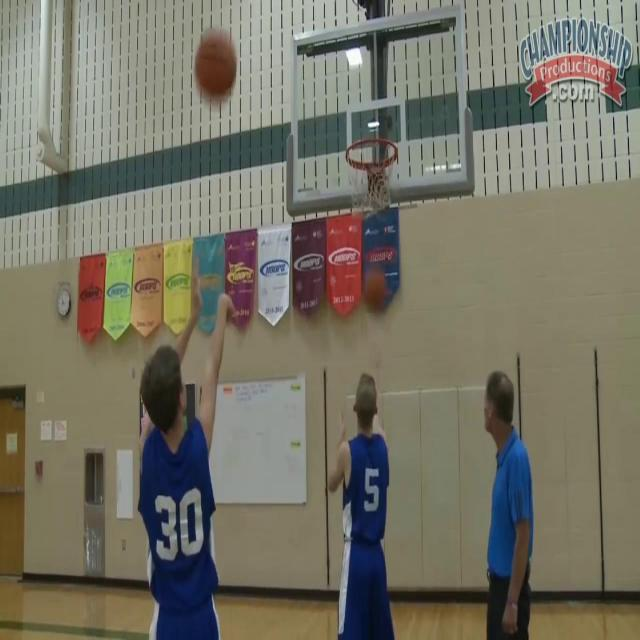Basketball: (195, 27, 237, 100), (364, 267, 386, 311)
hoop: (346, 137, 398, 210)
